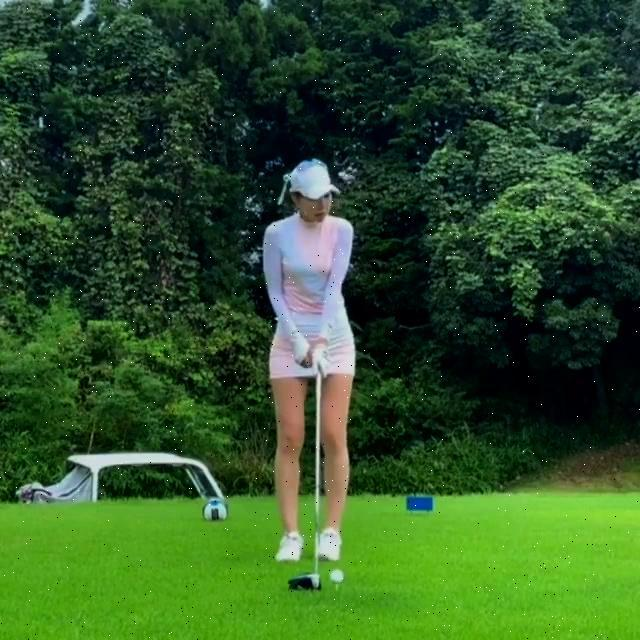golf ball: (330, 569, 346, 583)
golf club-handle: (284, 357, 323, 593)
golf club-head: (286, 574, 323, 593)
